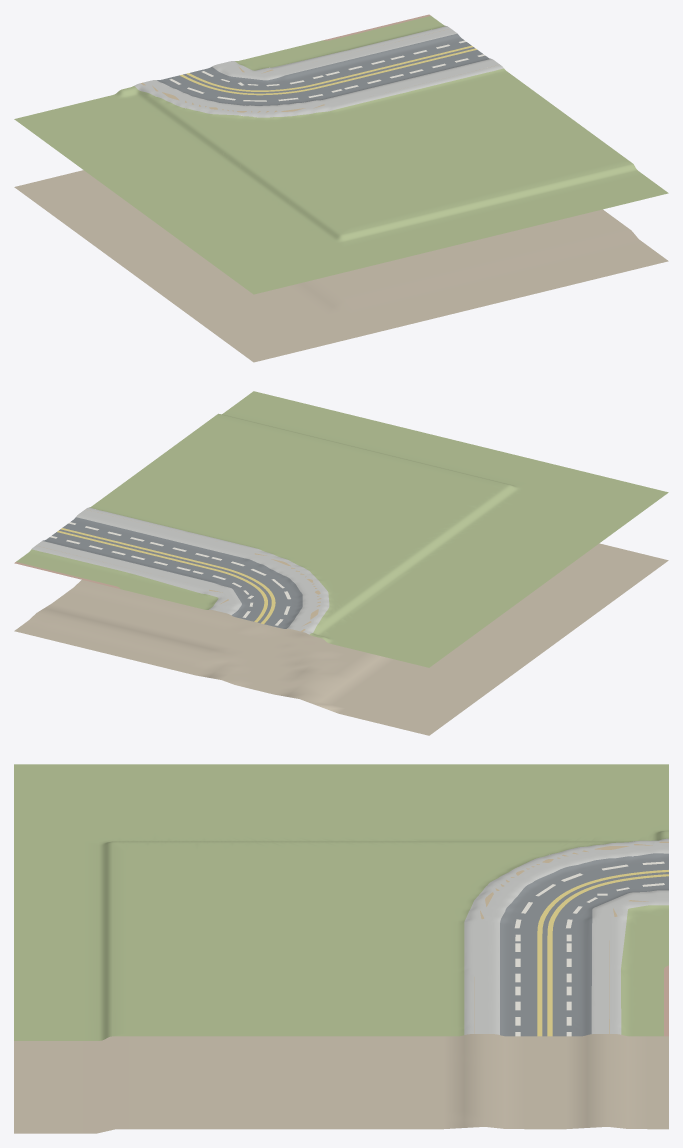
3 views of the same model, one above another, from view 1: azimuth 30°, elevation 25°; view 2: azimuth 150°, elevation 25°; view 3: azimuth 270°, elevation 25° (orthographic). The views are drawn at different scales.
Parts seen in each view (by area): view 1: s_-3_4__grass, s_-3_4__soil, s_-3_4__asphalt, s_-3_4__stone_paving, s_-3_4__yellow_marking, s_-3_4__white_marking; view 2: s_-3_4__grass, s_-3_4__soil, s_-3_4__asphalt, s_-3_4__stone_paving, s_-3_4__yellow_marking, s_-3_4__white_marking; view 3: s_-3_4__grass, s_-3_4__soil, s_-3_4__asphalt, s_-3_4__stone_paving, s_-3_4__yellow_marking, s_-3_4__white_marking, s_-3_4__timber_deck.
Boxes of the visible parts, x1,y1,x2,y2 form: s_-3_4__grass: (14,16,668,294); s_-3_4__soil: (14,170,668,362); s_-3_4__asphalt: (157,33,490,105); s_-3_4__stone_paving: (134,26,503,117); s_-3_4__yellow_marking: (180,45,476,95); s_-3_4__white_marking: (169,40,484,101); s_-3_4__grass: (16,391,668,667); s_-3_4__soil: (14,543,668,735); s_-3_4__asphalt: (42,517,302,628); s_-3_4__stone_paving: (32,507,329,634); s_-3_4__yellow_marking: (57,528,275,623); s_-3_4__white_marking: (50,522,290,625); s_-3_4__grass: (14,764,668,1040); s_-3_4__soil: (14,867,668,1133); s_-3_4__asphalt: (500,853,668,1036); s_-3_4__stone_paving: (464,838,668,1034); s_-3_4__yellow_marking: (537,870,668,1036); s_-3_4__white_marking: (514,861,664,1036); s_-3_4__timber_deck: (474,841,668,1033).
Bounding box in the file's own units: 128 × 21.51 × 128.
